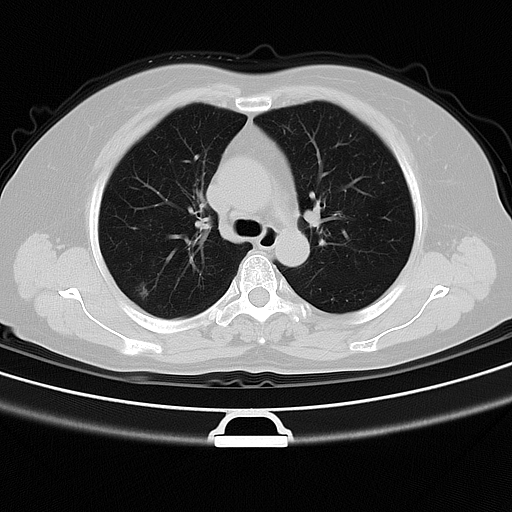nodule: (135, 281, 149, 299)
